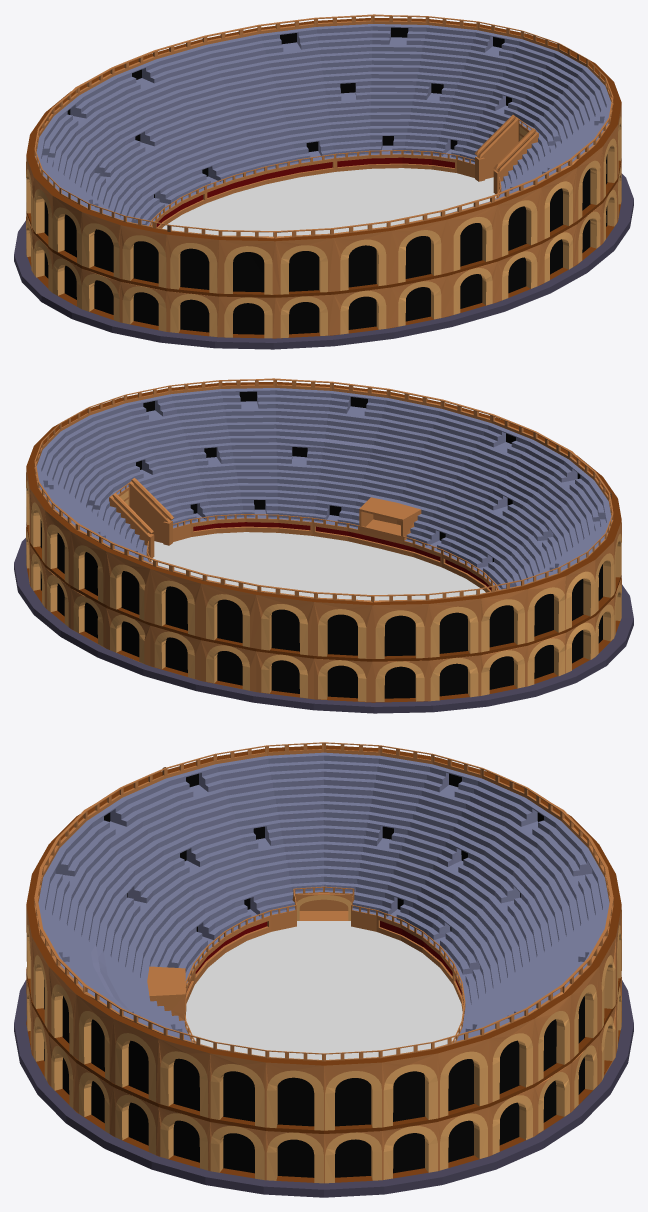
The model's file is Arena V3.fbx.
3 renders of one model, top to bottom at view 1: azimuth 30°, elevation 25°; view 2: azimuth 150°, elevation 25°; view 3: azimuth 270°, elevation 25°, orthographic. The views are drawn at different scales.
Visible parts, largest first — view 1: Arena; view 2: Arena; view 3: Arena.
Boxes of the visible parts, x1,y1,x2,y2 form: Arena: (14, 14, 633, 349); Arena: (14, 378, 633, 713); Arena: (14, 742, 633, 1197).
Bounding box in the file's own units: 9706 × 1804 × 7626.
